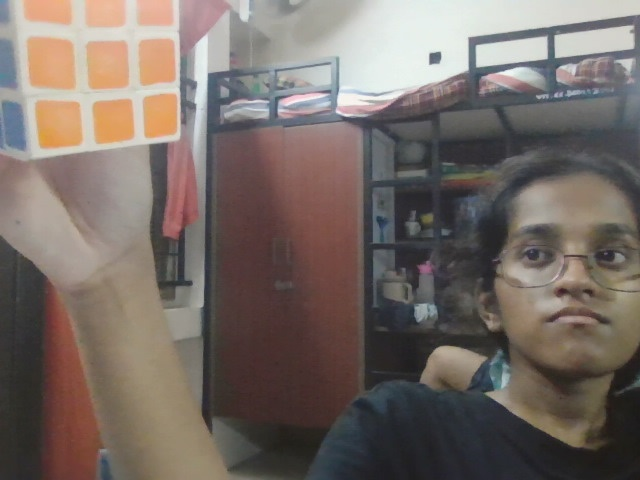rubiks_cube: (13, 0, 178, 157)
